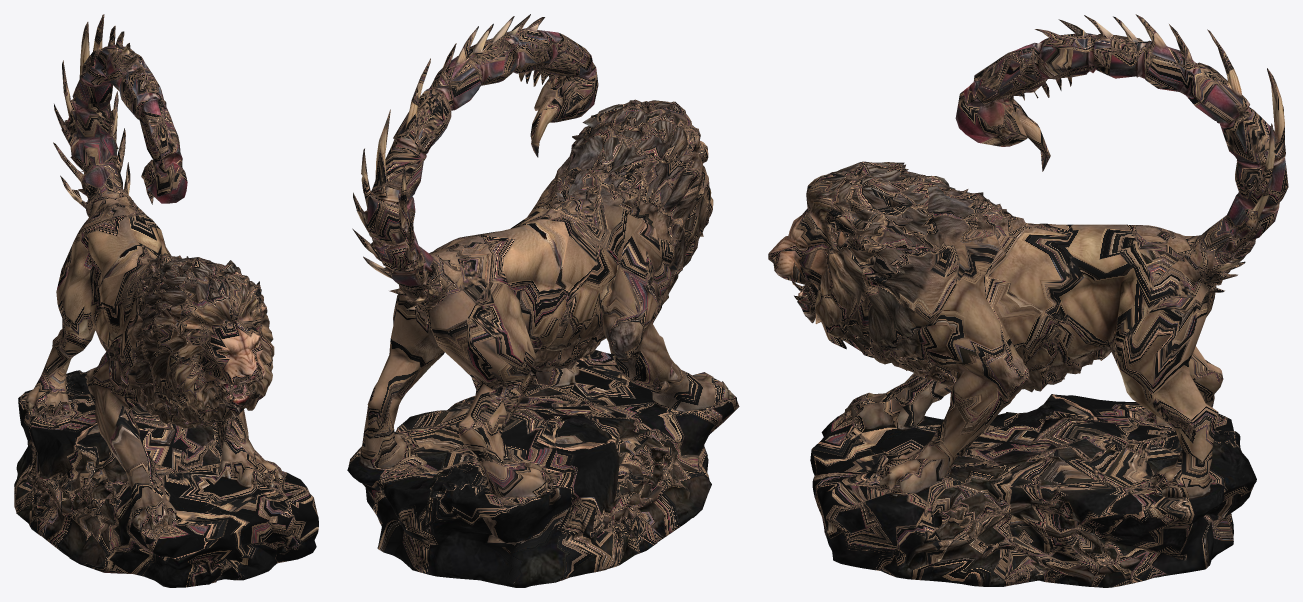
Rendered from manticore.glb.
The picture shows the model from 3 angles, left to right: view 1: azimuth 30°, elevation 25°; view 2: azimuth 150°, elevation 25°; view 3: azimuth 270°, elevation 25°; orthographic projection. The views are drawn at different scales.
Size of the model in its own units: 0.9497 by 1.9 by 1.71.
1 material, 1 textured.
